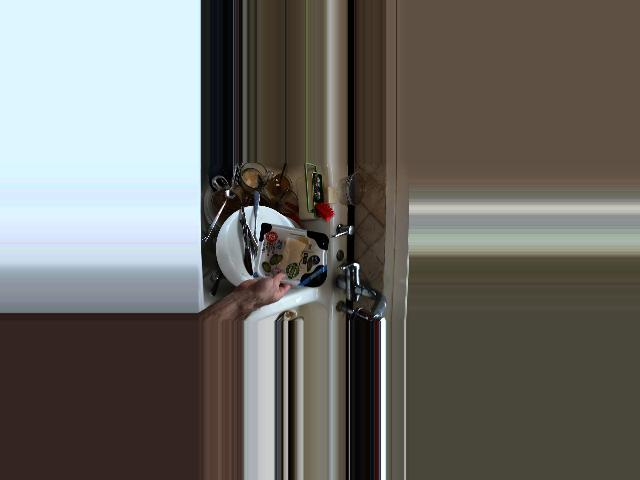cheese: (242, 225, 333, 305)
